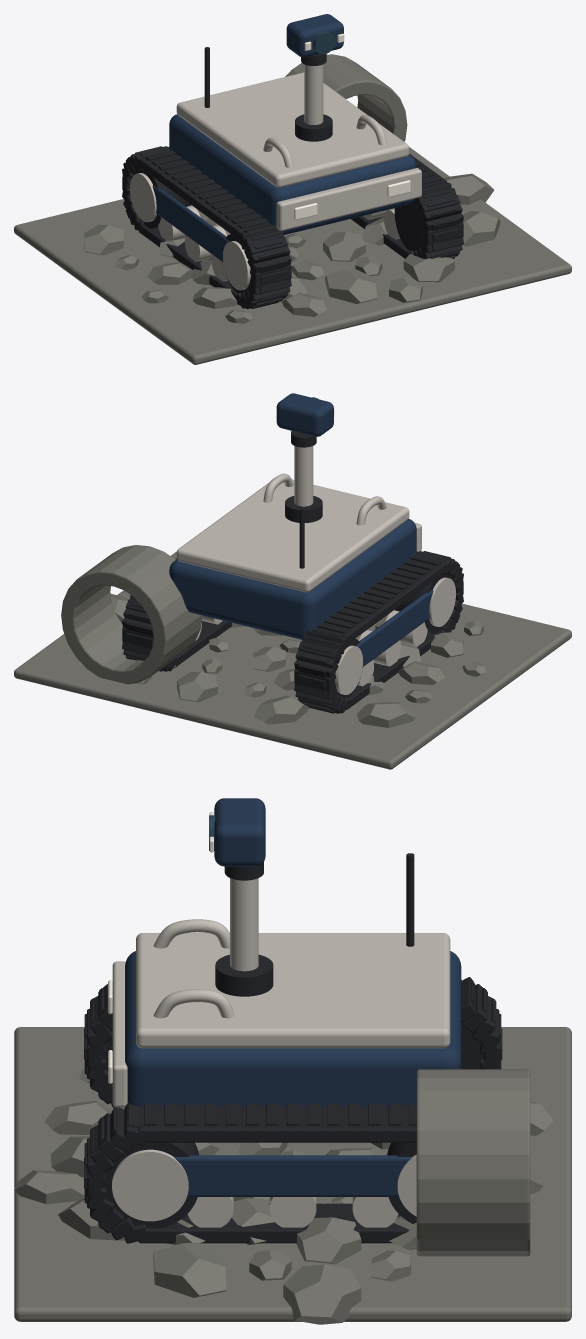
File: robots-42.glb
3 renders of one model, top to bottom at view 1: azimuth 30°, elevation 25°; view 2: azimuth 150°, elevation 25°; view 3: azimuth 270°, elevation 25°, orthographic. The views are drawn at different scales.
Visible parts, largest first — view 1: terrain, hull, tracks, rollers, culvert, mast, guards, camera, grab, lamps; view 2: terrain, hull, tracks, culvert, rollers, mast, guards, camera, grab; view 3: terrain, hull, tracks, culvert, rollers, guards, mast, camera, grab, antenna.
Boxes of the visible parts, bbox=[...] form: terrain: bbox=[14, 147, 571, 364]; hull: bbox=[169, 72, 421, 234]; tracks: bbox=[122, 146, 463, 308]; rollers: bbox=[130, 169, 423, 293]; culvert: bbox=[285, 54, 407, 141]; mast: bbox=[295, 54, 332, 141]; guards: bbox=[152, 185, 229, 262]; camera: bbox=[286, 14, 343, 57]; grab: bbox=[263, 115, 386, 167]; lamps: bbox=[294, 180, 410, 220]; terrain: bbox=[14, 552, 571, 769]; hull: bbox=[169, 479, 421, 639]; tracks: bbox=[122, 551, 463, 713]; culvert: bbox=[61, 545, 202, 684]; rollers: bbox=[195, 574, 455, 698]; mast: bbox=[285, 431, 322, 522]; guards: bbox=[356, 590, 433, 666]; camera: bbox=[276, 393, 333, 436]; grab: bbox=[263, 473, 386, 525]; terrain: bbox=[14, 1027, 571, 1324]; hull: bbox=[112, 933, 461, 1107]; tracks: bbox=[84, 977, 502, 1243]; culvert: bbox=[416, 1069, 530, 1256]; rollers: bbox=[102, 1022, 483, 1227]; guards: bbox=[174, 1155, 411, 1196]; mast: bbox=[215, 862, 273, 996]; camera: bbox=[209, 798, 265, 866]; grab: bbox=[153, 919, 234, 1018]; antenna: bbox=[406, 853, 414, 946].
Bounding box in the file's own units: 3.17 × 1.88 × 2.52.
